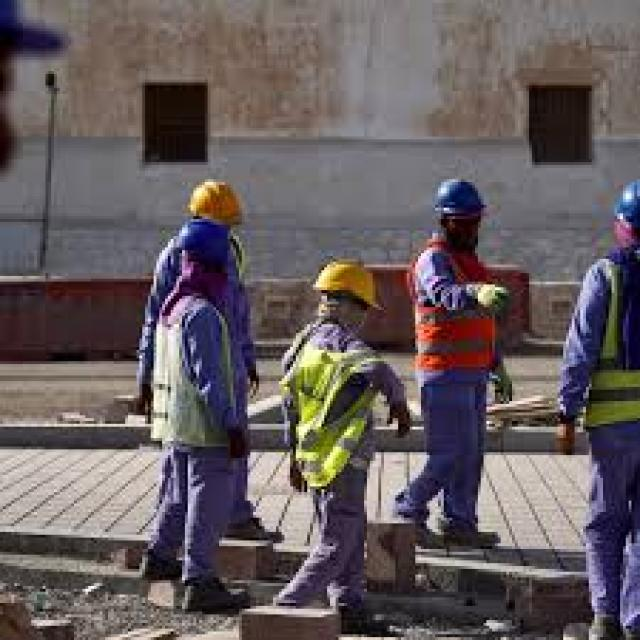Reflective-Jacket: (134, 225, 262, 452), (273, 324, 395, 498), (398, 239, 515, 392), (569, 247, 640, 444)
Safety-Helmet: (302, 248, 392, 318), (421, 168, 503, 230), (176, 171, 256, 230), (591, 167, 640, 247)
